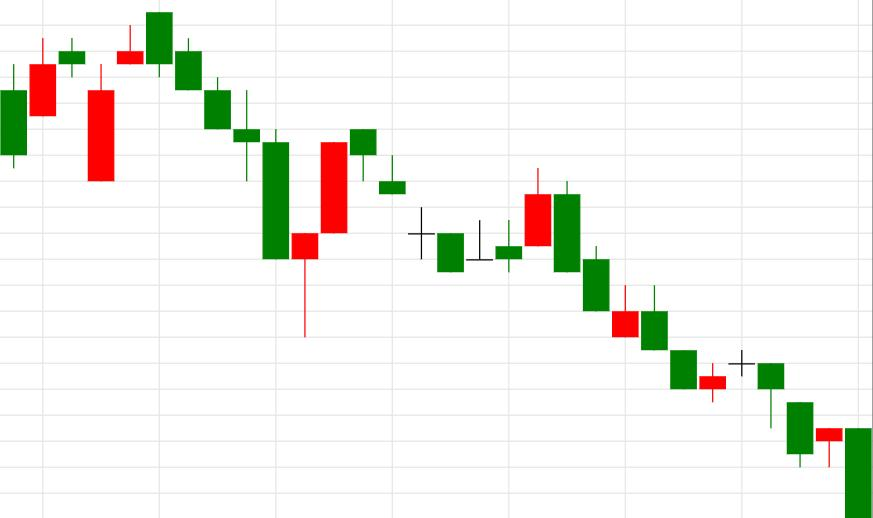hammer_rise: (146, 12, 319, 337)
